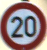20 km speed: (1, 1, 47, 49)
